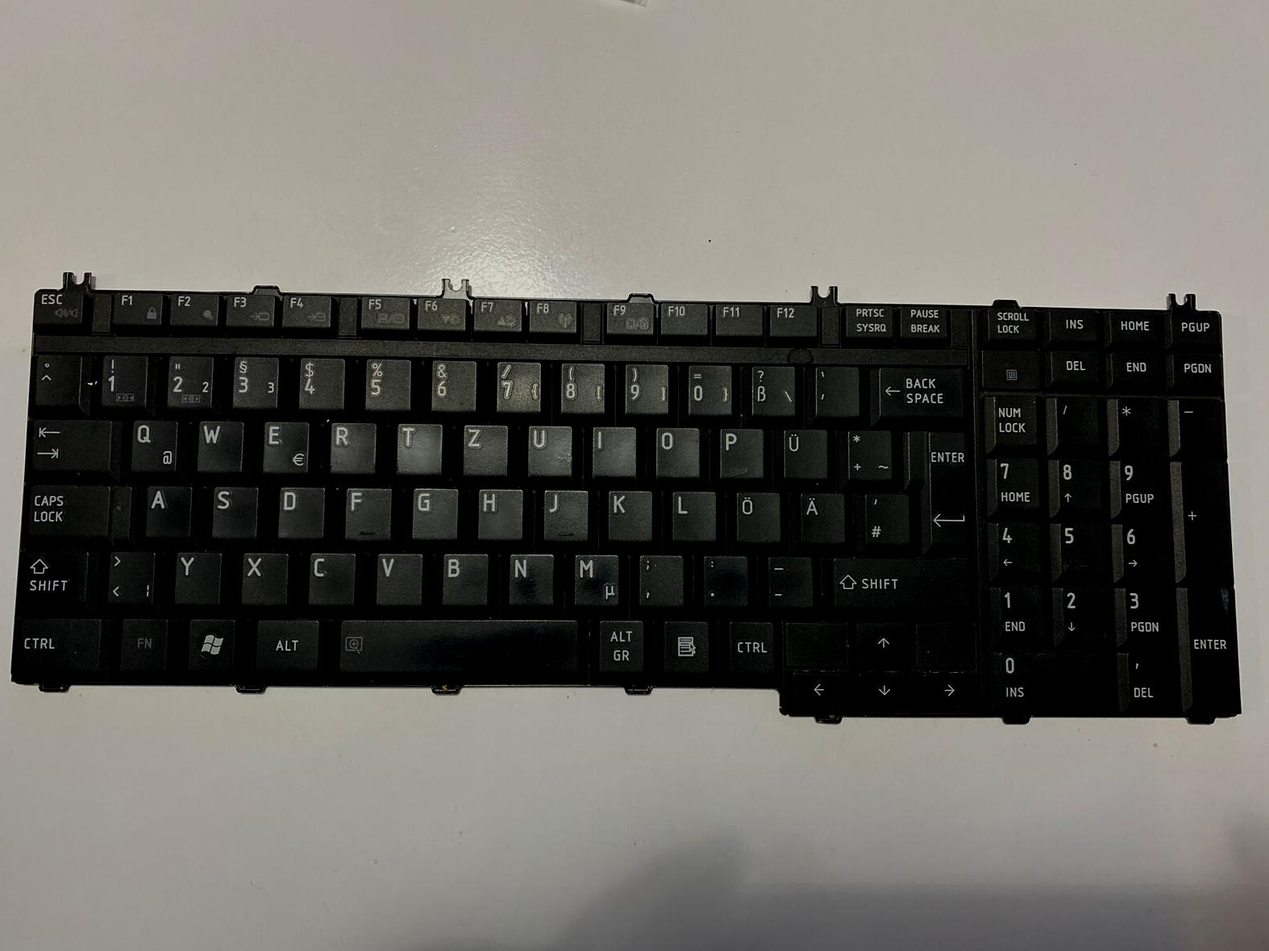0: (679, 359, 732, 417)
1: (94, 350, 148, 413)
2: (160, 350, 214, 413)
3: (226, 351, 280, 410)
4: (292, 353, 345, 411)
5: (357, 354, 410, 411)
6: (423, 355, 476, 412)
7: (489, 356, 541, 413)
8: (552, 357, 605, 415)
9: (617, 359, 668, 415)
a: (139, 480, 193, 541)
accent: (805, 361, 859, 420)
ae: (792, 487, 845, 546)
alt-left: (249, 613, 320, 675)
altgr-right: (593, 614, 646, 675)
b: (434, 547, 488, 608)
c: (303, 548, 356, 608)
caret: (29, 350, 80, 411)
comma: (633, 550, 683, 608)
d: (272, 481, 324, 541)
del: (868, 361, 964, 422)
e: (256, 416, 310, 477)
enter: (900, 425, 968, 550)
f: (339, 482, 390, 542)
g: (405, 482, 456, 541)
h: (471, 484, 522, 542)
hash: (855, 488, 909, 550)
i: (586, 422, 634, 476)
j: (537, 484, 587, 542)
k: (601, 484, 651, 542)
keyboard: (6, 280, 1238, 716)
l: (664, 486, 715, 543)
less: (102, 545, 156, 608)
m: (566, 549, 619, 610)
minus: (759, 551, 812, 611)
n: (501, 548, 553, 607)
o: (647, 422, 698, 477)
oe: (728, 486, 780, 545)
p: (709, 422, 763, 479)
plus: (839, 424, 892, 485)
point: (697, 550, 748, 610)
q: (125, 415, 179, 476)
r: (322, 417, 377, 475)
s: (206, 481, 257, 542)
shift-left: (15, 546, 90, 609)
shift-lock: (21, 480, 110, 542)
shift-right: (819, 550, 970, 614)
space: (333, 613, 578, 675)
ss: (742, 359, 795, 419)
strg-left: (9, 611, 102, 675)
strg-right: (721, 616, 775, 677)
t: (390, 418, 441, 475)
tab: (26, 414, 113, 476)
u: (519, 420, 572, 477)
ue: (772, 424, 828, 483)
v: (369, 547, 422, 607)
w: (191, 415, 243, 474)
x: (236, 547, 288, 607)
y: (169, 546, 221, 607)
z: (456, 420, 507, 478)
